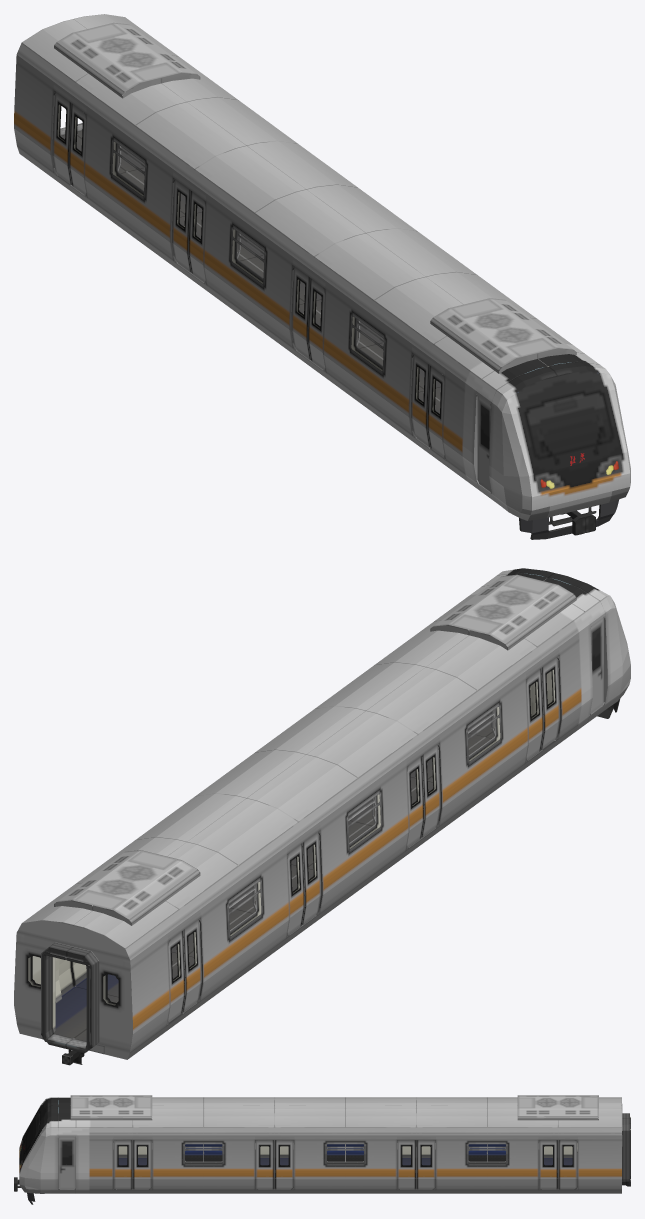
Rendered from dkz_6.obj.
3 views of the same model, one above another, from view 1: azimuth 30°, elevation 25°; view 2: azimuth 150°, elevation 25°; view 3: azimuth 270°, elevation 25° (orthographic). The views are drawn at different scales.
Parts seen in each view (by area): view 1: window_exterior, head_exterior, end_exterior, door_right_negative_exterior, door_right_positive_exterior, window; view 2: window_exterior, end_exterior, head_exterior, door_right_positive_exterior, door_right_negative_exterior, window, end, head; view 3: window_exterior, head_exterior, end_exterior, door_left_negative_exterior, door_left_positive_exterior, window, door_right_negative, door_right_positive.
Boxes of the visible parts, x1=… form: window_exterior: x1=70, y1=55, x2=536, y2=454; head_exterior: x1=428, y1=298, x2=630, y2=539; end_exterior: x1=14, y1=14, x2=200, y2=192; door_right_negative_exterior: x1=52, y1=92, x2=430, y2=447; door_right_positive_exterior: x1=69, y1=103, x2=444, y2=457; window: x1=112, y1=125, x2=440, y2=413; window_exterior: x1=75, y1=620, x2=542, y2=1020; end_exterior: x1=14, y1=850, x2=200, y2=1065; head_exterior: x1=430, y1=568, x2=630, y2=757; door_right_positive_exterior: x1=182, y1=657, x2=560, y2=1012; door_right_negative_exterior: x1=168, y1=668, x2=543, y2=1022; window: x1=75, y1=690, x2=500, y2=996; end: x1=28, y1=952, x2=118, y2=1051; head: x1=467, y1=671, x2=552, y2=738; window_exterior: x1=132, y1=1097, x2=558, y2=1193; head_exterior: x1=14, y1=1095, x2=152, y2=1204; end_exterior: x1=517, y1=1095, x2=630, y2=1193; door_left_negative_exterior: x1=132, y1=1140, x2=577, y2=1189; door_left_positive_exterior: x1=113, y1=1140, x2=558, y2=1189; window: x1=138, y1=1127, x2=552, y2=1165; door_right_negative: x1=138, y1=1140, x2=572, y2=1157; door_right_positive: x1=118, y1=1146, x2=552, y2=1157.
Bounding box in the file's own units: 2.88 × 3.56 × 21.75.
Materials: 4 (4 with a texture image).
